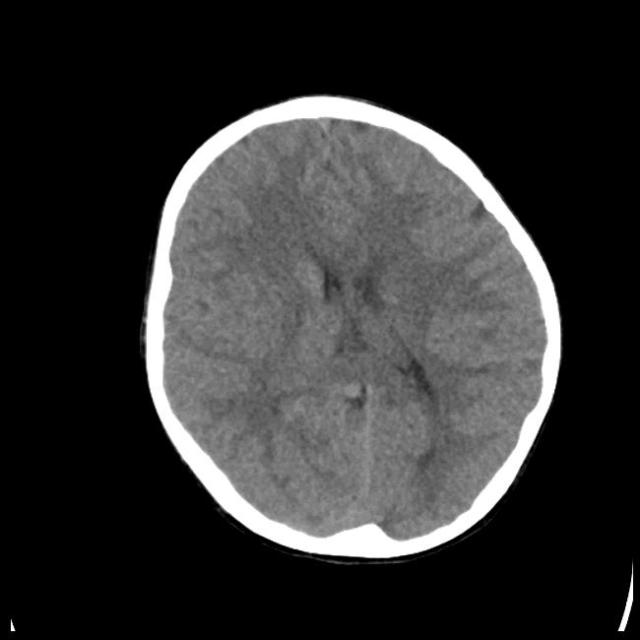lesion: (141, 96, 563, 560)
